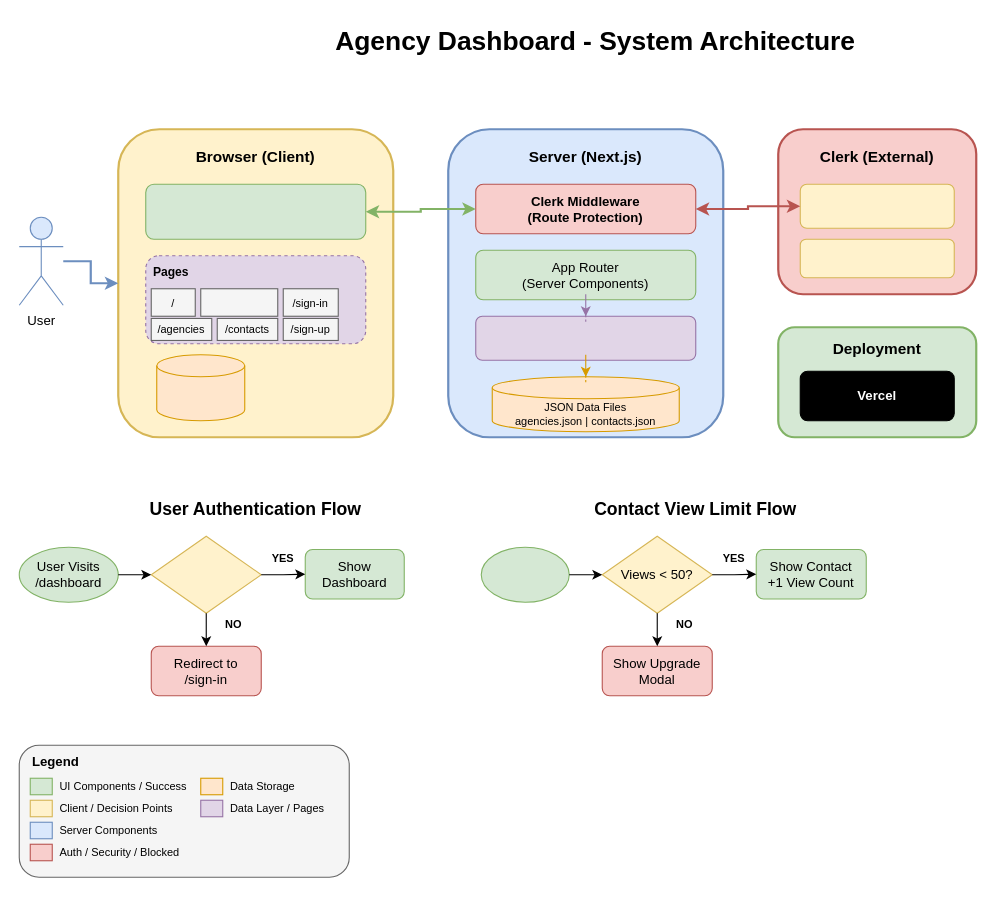
This 997x897 diagram has some shape labels left out. Each missing label, with the box of its shape:
/dashboard: (200, 288, 278, 316)
Authenticated?: (150, 535, 261, 613)
Authentication Service: (799, 183, 954, 228)
Data Layer lib/data.ts: (475, 315, 696, 360)
localStorage (Contact Views): (156, 354, 245, 421)
Next.js 15 App (React 19): (145, 183, 366, 239)
User Management: (799, 238, 954, 278)
View Contact: (480, 546, 569, 602)
